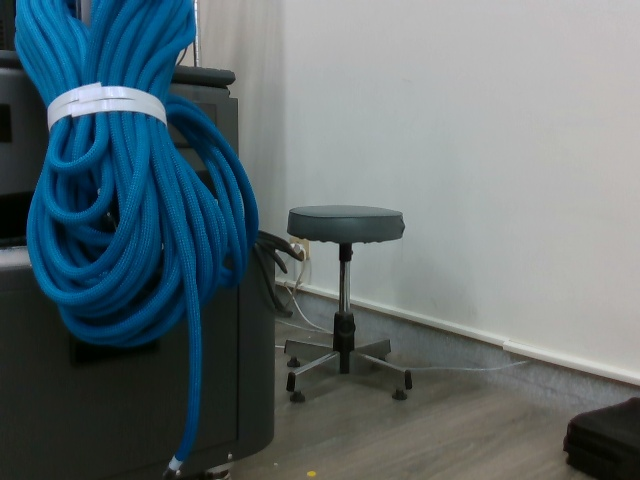rope: (8, 5, 263, 352)
